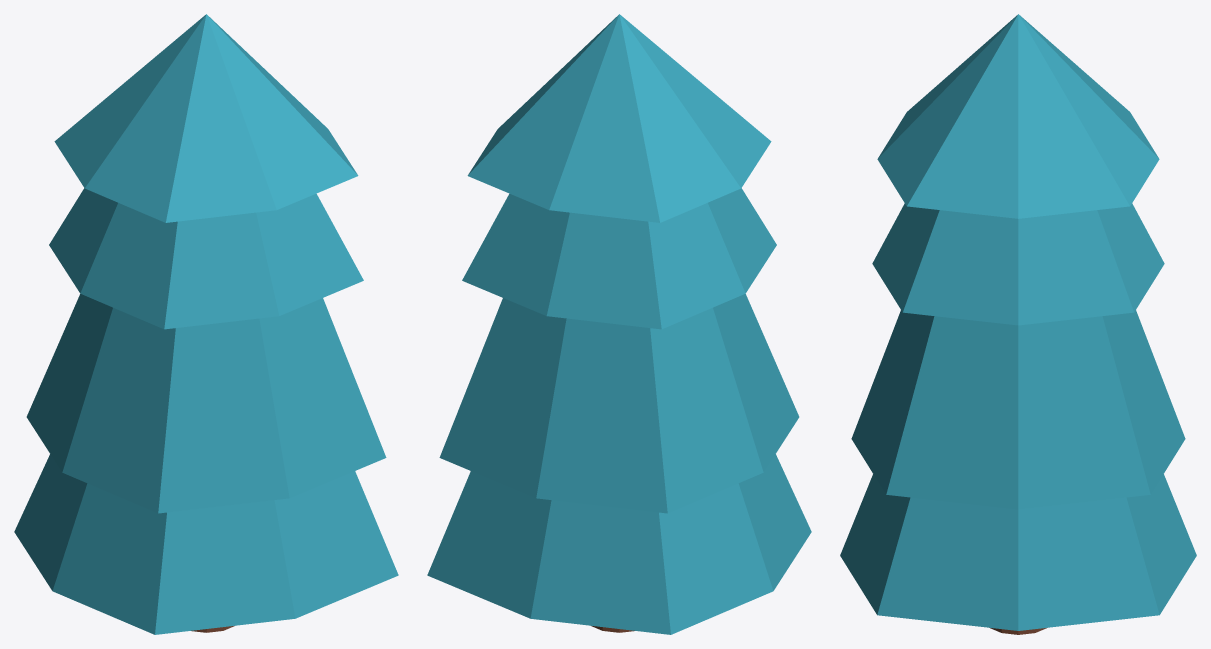
Rendered from Tree_22_summer_blue_mat.fbx.
3 views of the same model, side by side, from view 1: azimuth 30°, elevation 25°; view 2: azimuth 150°, elevation 25°; view 3: azimuth 270°, elevation 25° (orthographic).
Parts seen in each view (by area): view 1: Tree_22_summer_blue_mat; view 2: Tree_22_summer_blue_mat; view 3: Tree_22_summer_blue_mat.
Boxes of the visible parts, x1,y1,x2,y2 form: Tree_22_summer_blue_mat: [14, 14, 398, 634]; Tree_22_summer_blue_mat: [427, 14, 811, 634]; Tree_22_summer_blue_mat: [840, 14, 1196, 634].
Size of the model in its own units: 82.75 by 155 by 82.75.
